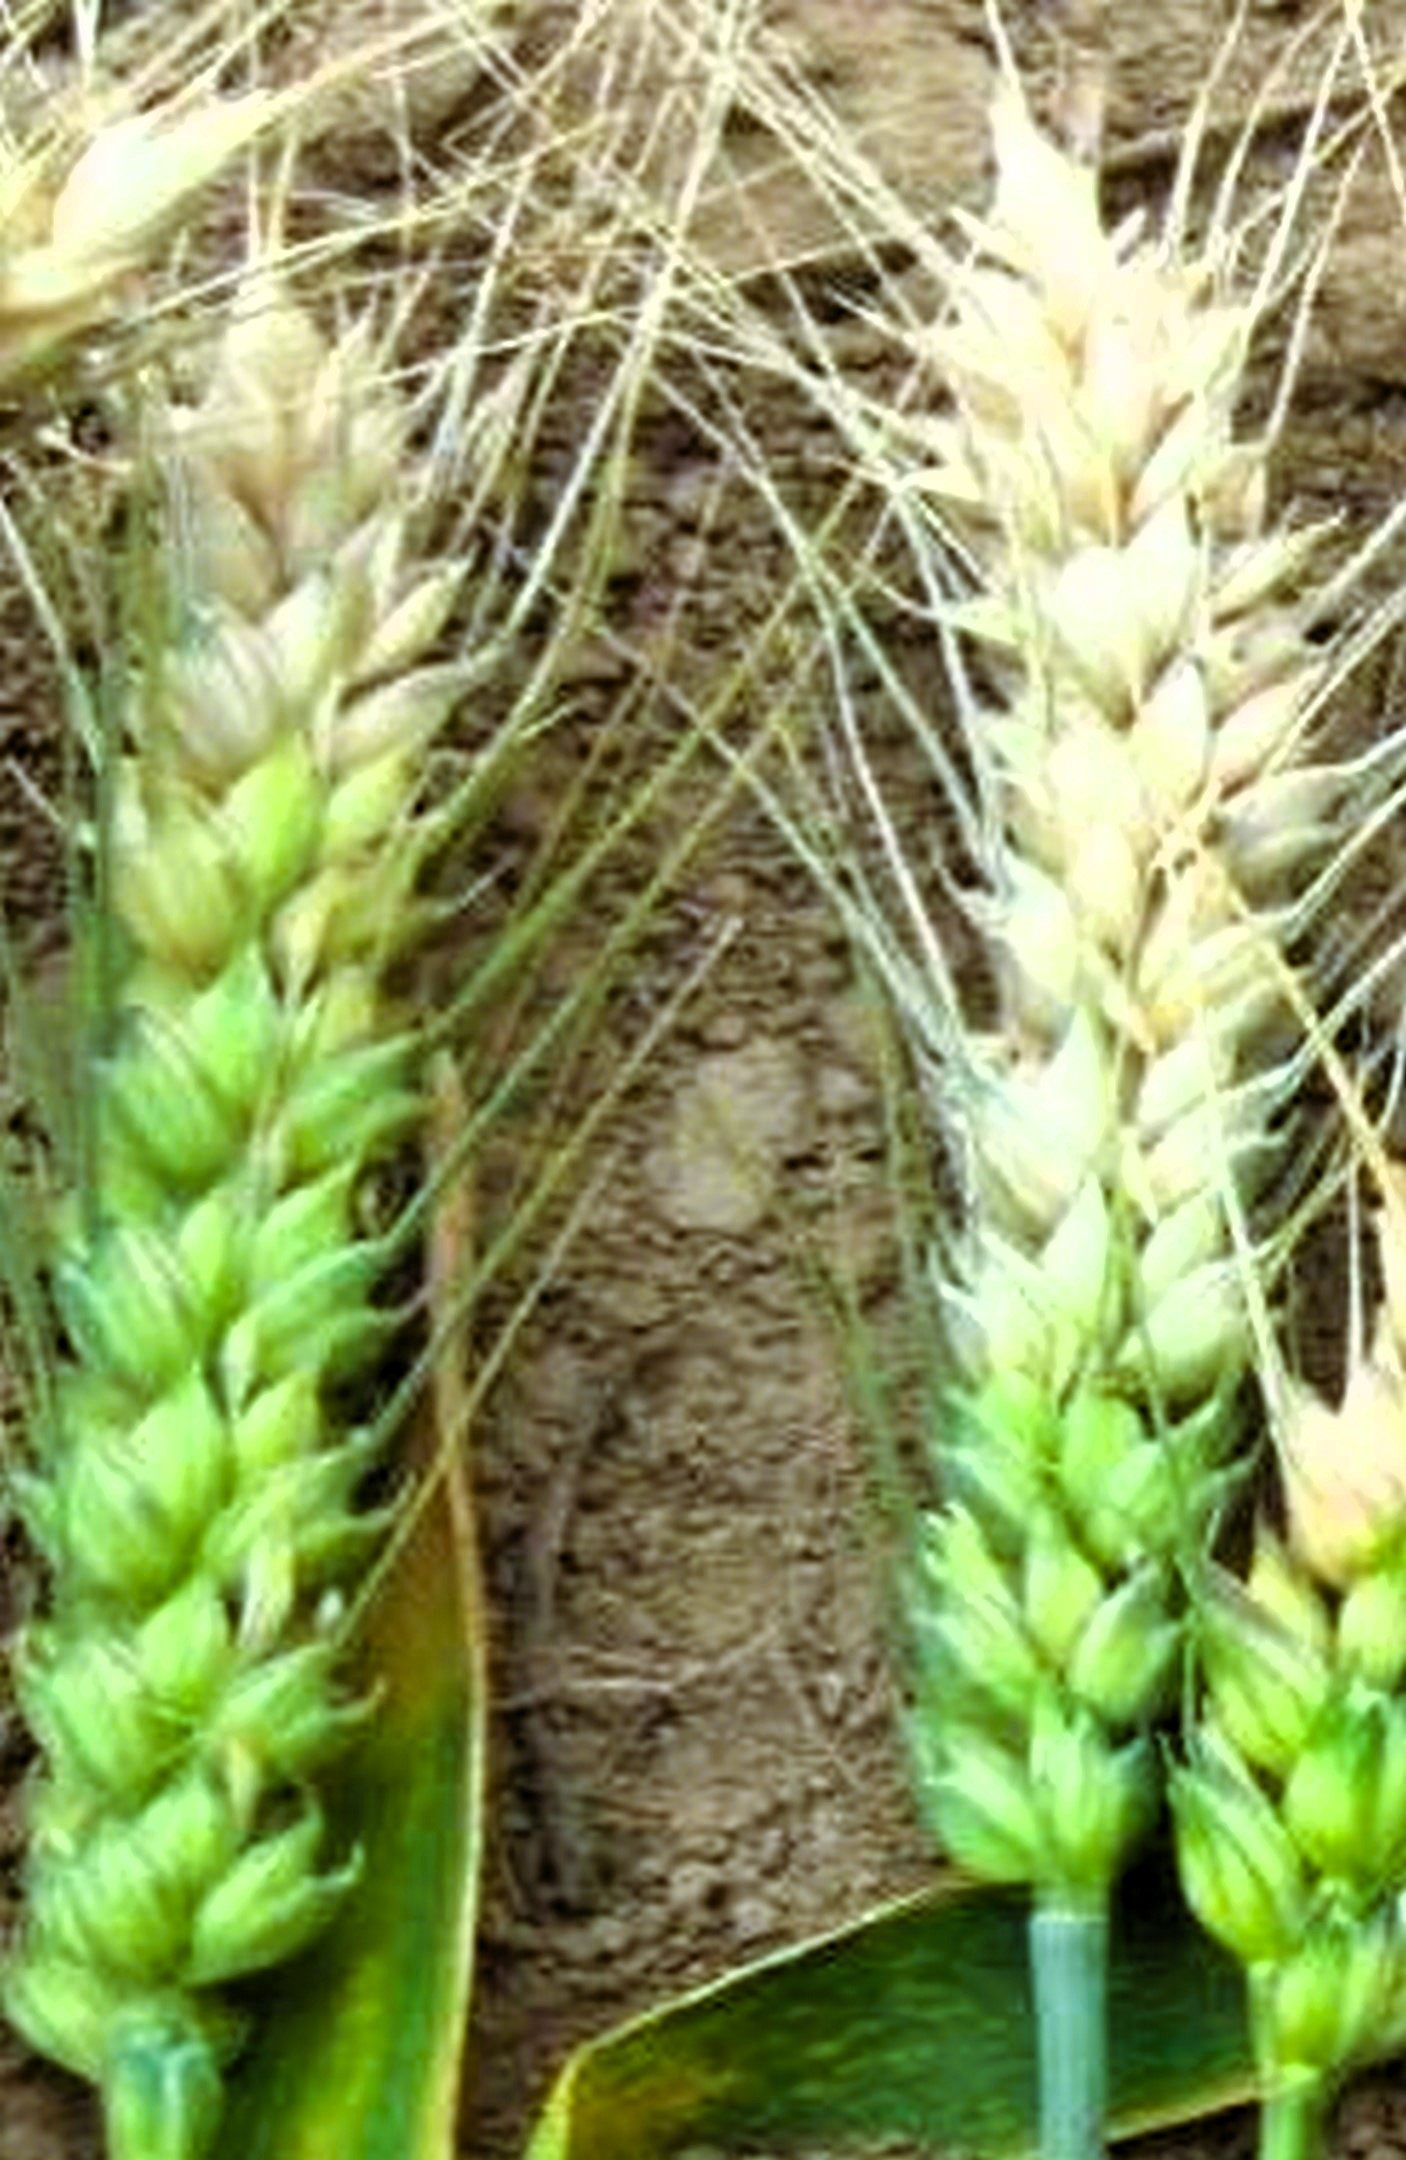Wheat scab: (768, 170, 1293, 1922)
